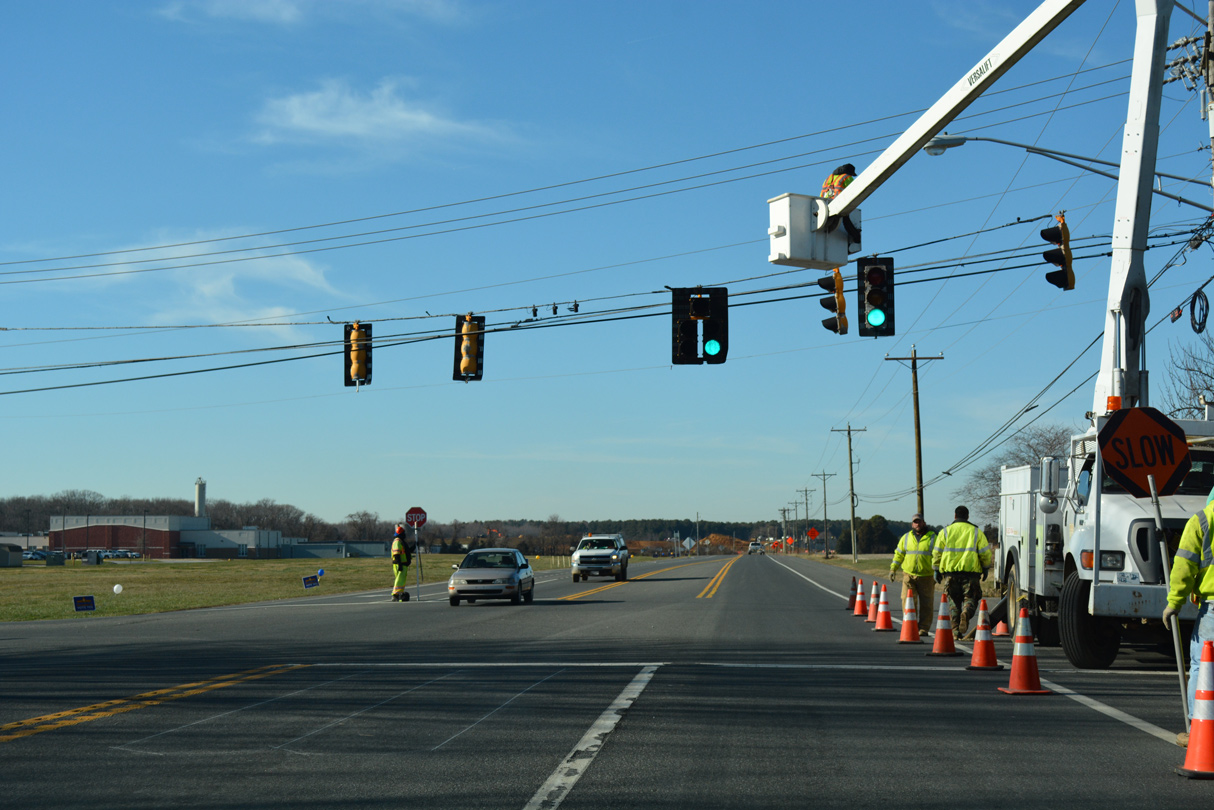traffic_light: (855, 256, 897, 338), (701, 287, 730, 366)
